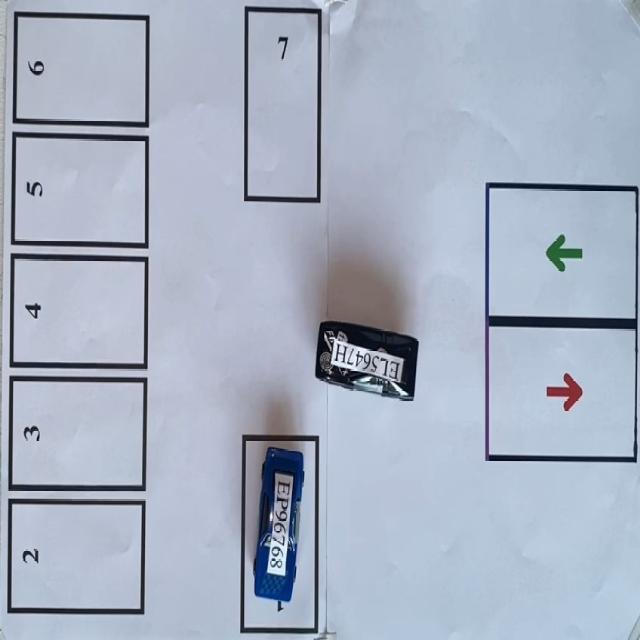car: (254, 447, 303, 610), (316, 321, 417, 398)
